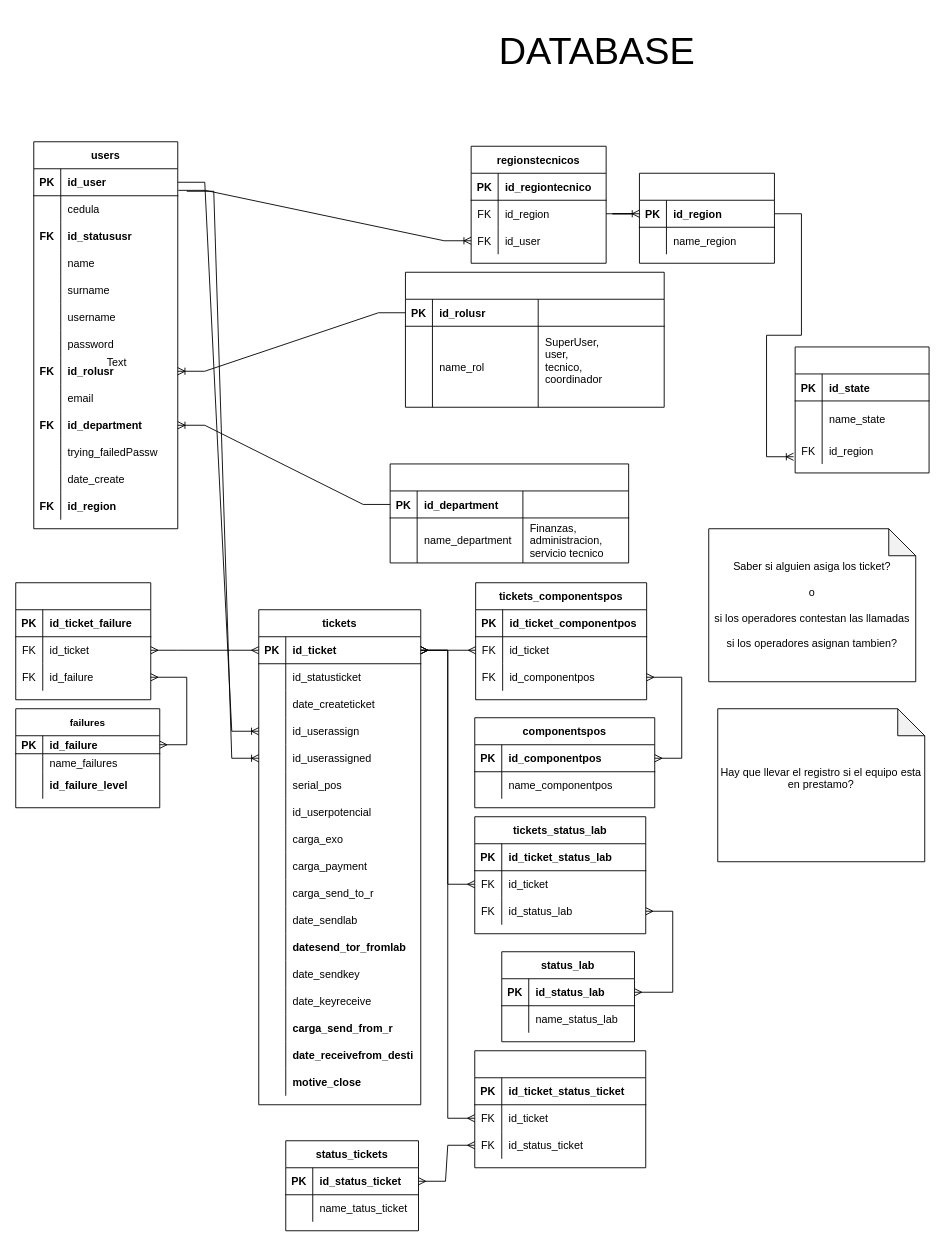
Image size: 945x1247. Some labels were removed from this diagram. Each missing label, with the box of its shape:
departments: (389, 463, 629, 563)
regions: (639, 172, 774, 263)
roles: (405, 271, 664, 407)
states: (794, 346, 929, 473)
tickets_failures: (15, 582, 151, 700)
tickets_status_tickets: (474, 1050, 646, 1168)
